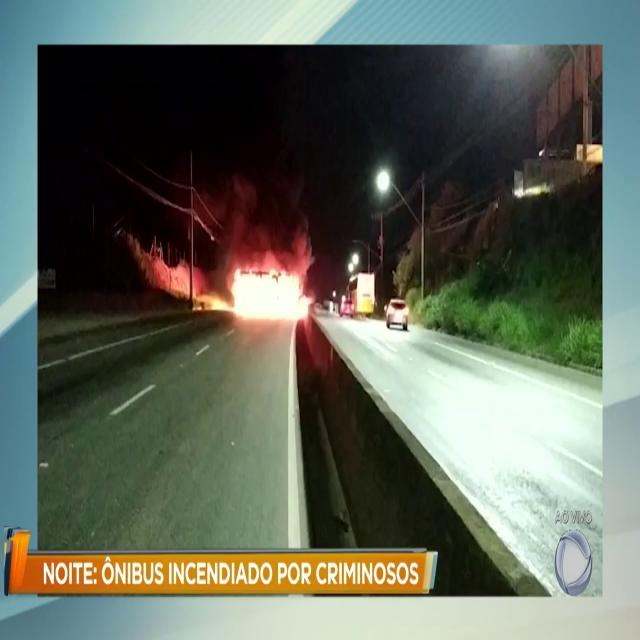Fire: (226, 262, 310, 318)
